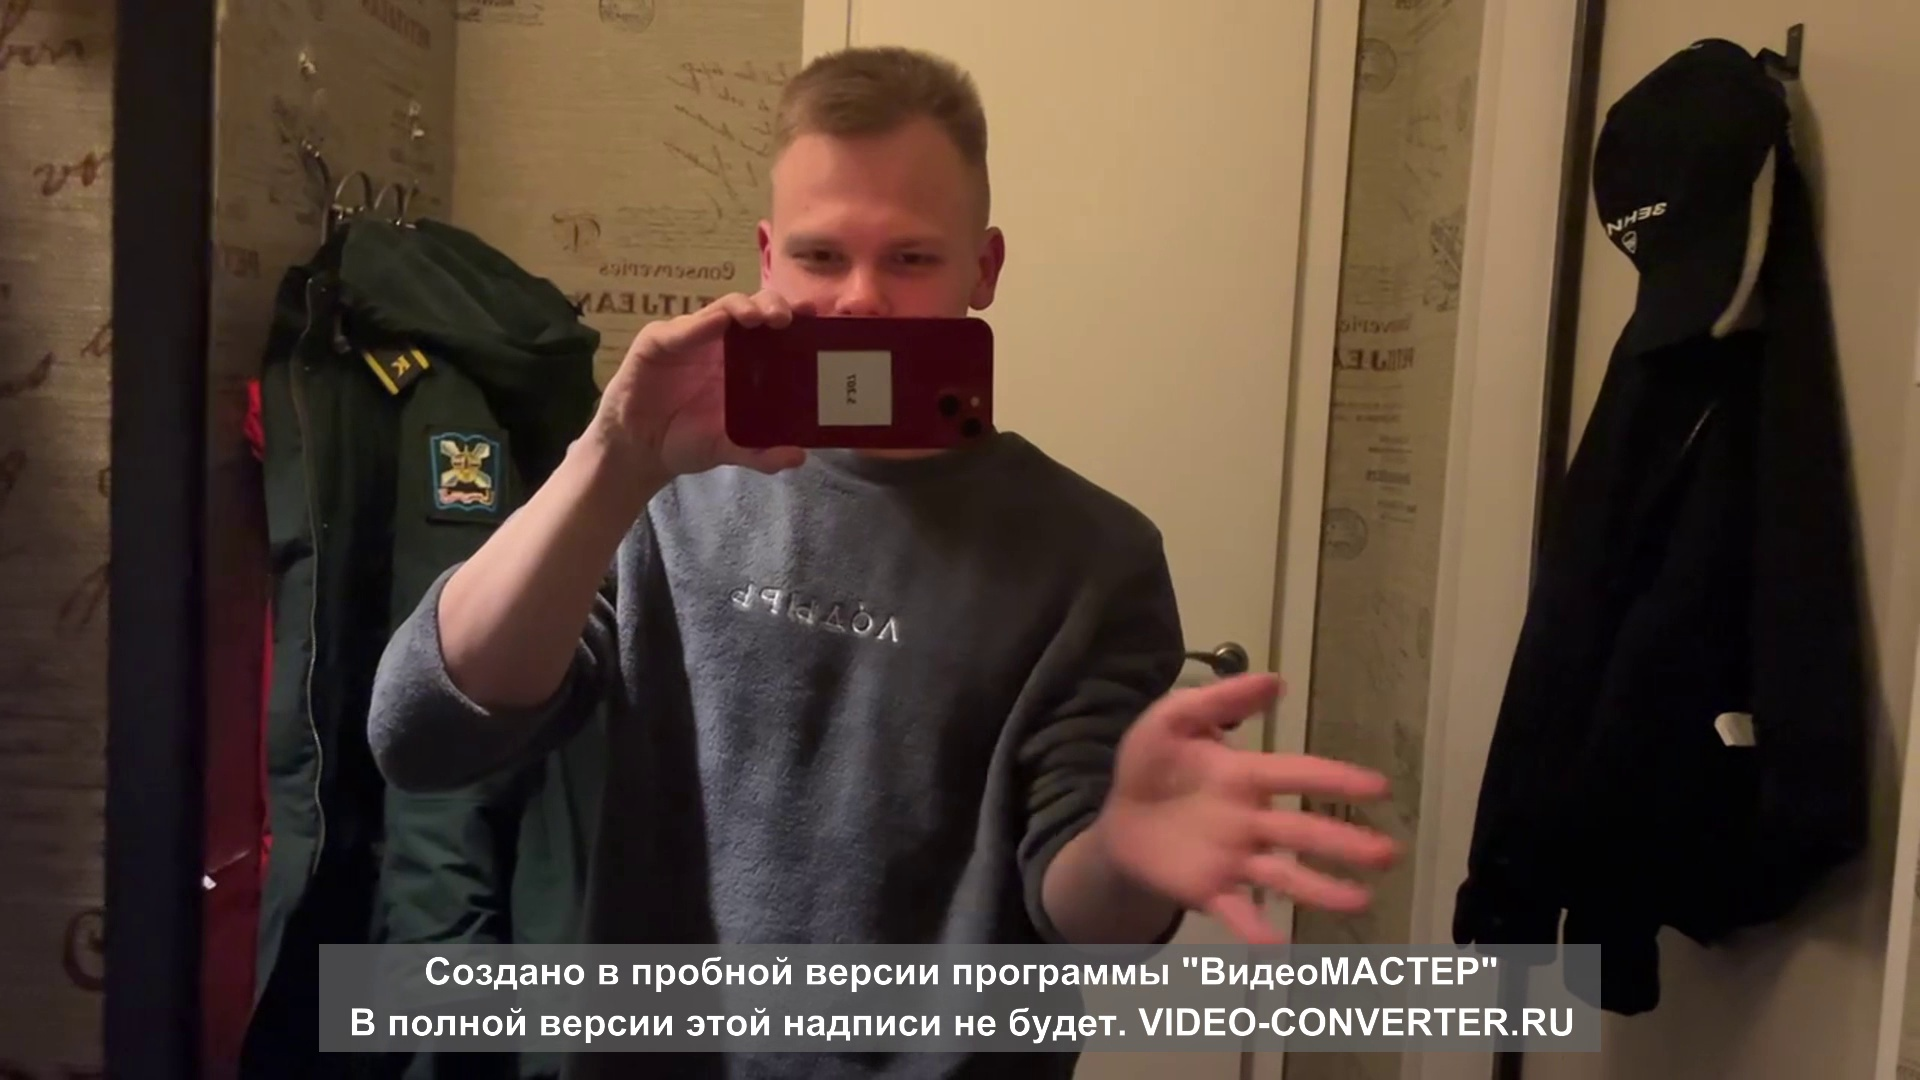Ладонь: (1112, 669, 1402, 942)
